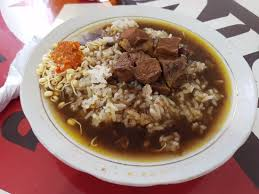Rawon: (45, 18, 237, 169)
